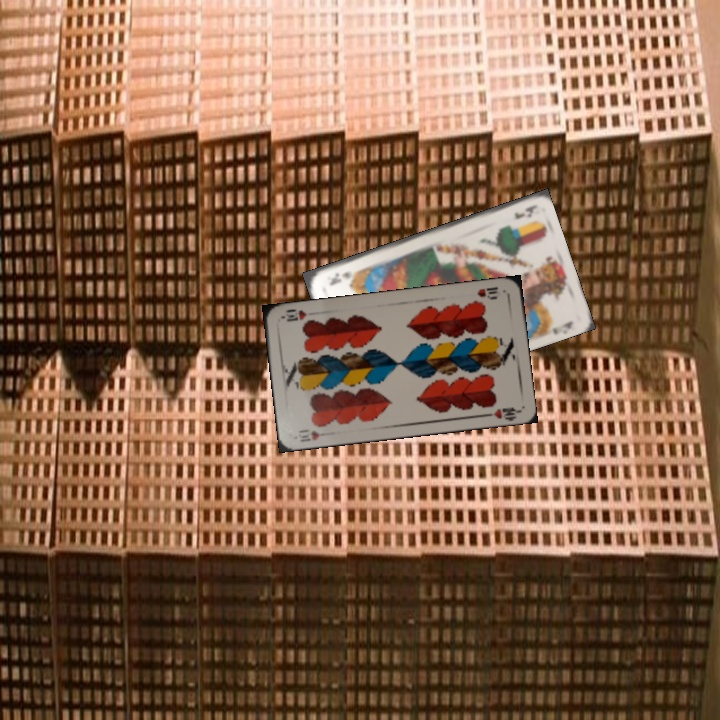EK: (511, 201, 537, 222)
H10: (294, 425, 322, 445), (473, 283, 501, 302)
